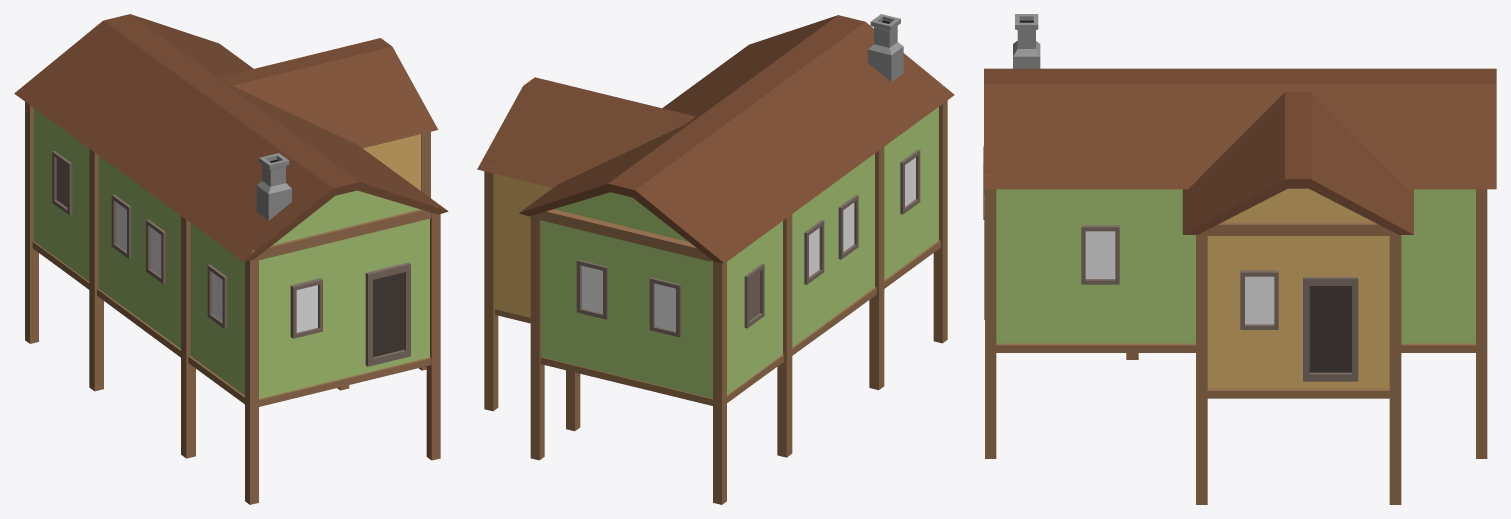
Rendered from M_House_Building_1.fbx.
3 renders of one model, left to right at view 1: azimuth 30°, elevation 25°; view 2: azimuth 150°, elevation 25°; view 3: azimuth 270°, elevation 25°, orthographic. The views are drawn at different scales.
Parts seen in each view (by area): view 1: M_House_Building_1; view 2: M_House_Building_1; view 3: M_House_Building_1.
Part boxes in pixels (left/top/right/bottom): M_House_Building_1: left=14, top=14, right=448, bottom=504; M_House_Building_1: left=477, top=14, right=954, bottom=504; M_House_Building_1: left=983, top=14, right=1496, bottom=504.
Size of the model in its own units: 617 by 668 by 866.
